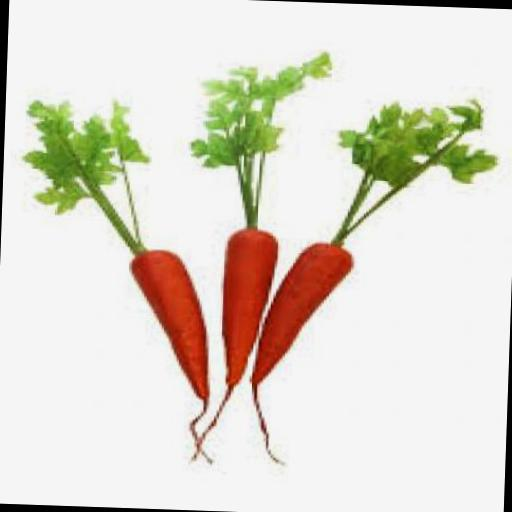biodegradable: (186, 42, 324, 226), (330, 97, 496, 246), (246, 243, 351, 464), (16, 96, 154, 248), (191, 224, 276, 464), (124, 246, 216, 463)
